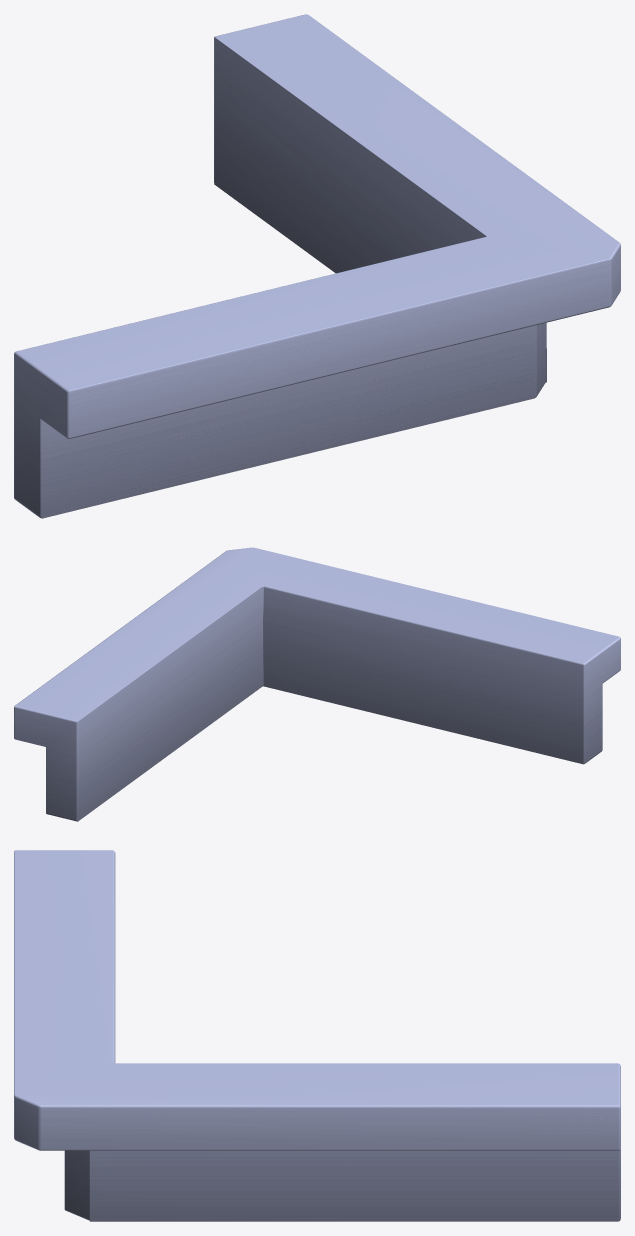
File: border-corner-small.glb
3 renders of one model, top to bottom at view 1: azimuth 30°, elevation 25°; view 2: azimuth 150°, elevation 25°; view 3: azimuth 270°, elevation 25°, orthographic. The views are drawn at different scales.
Parts seen in each view (by area): view 1: border-corner-small; view 2: border-corner-small; view 3: border-corner-small.
Boxes of the visible parts, x1,y1,x2,y2 form: border-corner-small: (14, 14, 620, 518); border-corner-small: (14, 547, 620, 821); border-corner-small: (14, 850, 620, 1221).
Bounding box in the file's own units: 1.2 × 0.3 × 1.2.
Materials: 1 (1 with a texture image).
